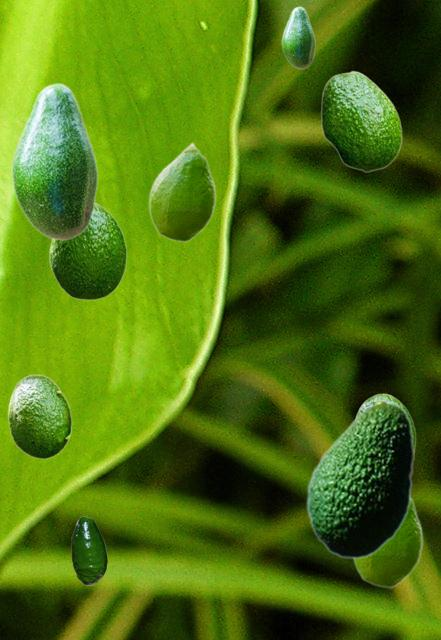avocado: (306, 400, 413, 558), (10, 82, 97, 240), (320, 70, 401, 171), (49, 202, 126, 299), (148, 141, 215, 241), (351, 497, 422, 587), (7, 374, 71, 458), (355, 393, 415, 453), (71, 516, 106, 584), (281, 6, 314, 68)
